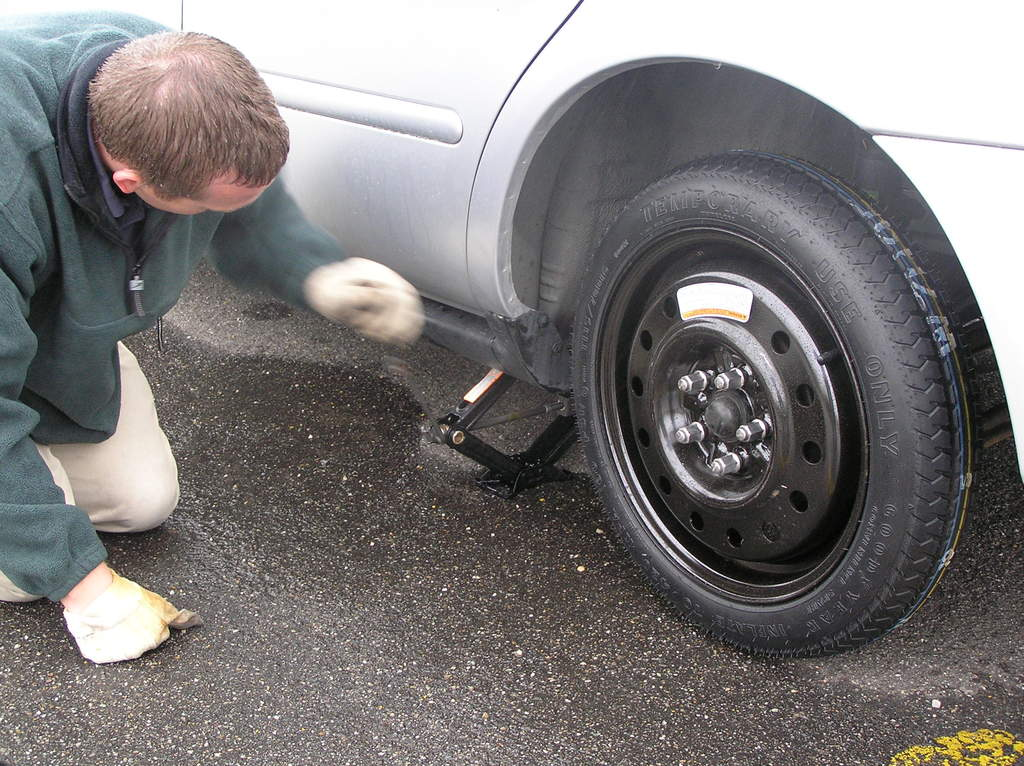Car: (1, 4, 1023, 664)
